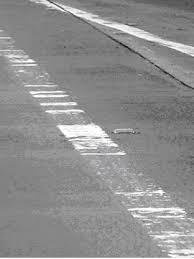faded_road_lines: (0, 29, 193, 258), (52, 2, 193, 58)
